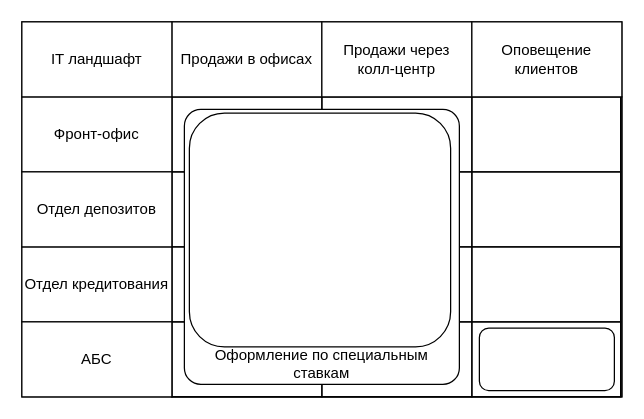
Some shapes in this 644 by 419 pixel diagram are drawn without their labels. Each missing label, with the box of its shape:
Отправка СМС: (478, 327, 614, 391)
Оформление по обычным ставкам: (188, 112, 451, 347)
